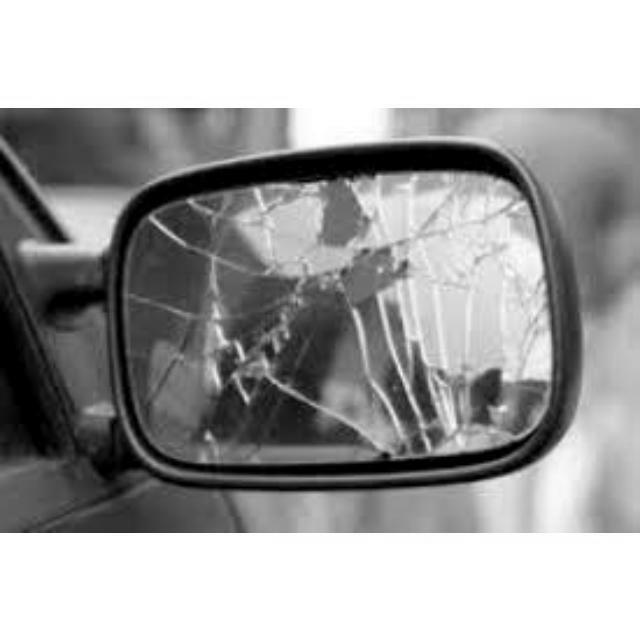Sidemirror-Damage: (77, 133, 570, 498)
